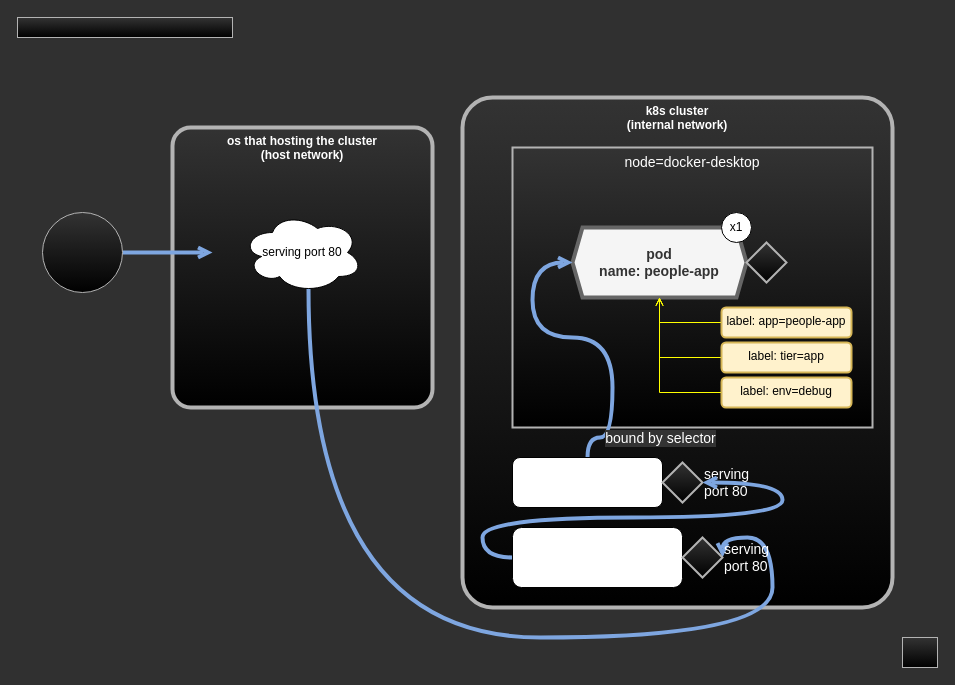
The diagram is 955 pixels wide and 685 high, and some of its shapes have lost their labels. Here are the shapes that lost their labels. From the top down, the centre of each, then its label:
the point at 124,27: api-app-with-ingress-plan
the point at 82,252: client (http)
the point at 766,262: serving port 8082
the point at 587,482: k8s service name: people-service
the point at 597,557: ingress (backed by ingress controller)
